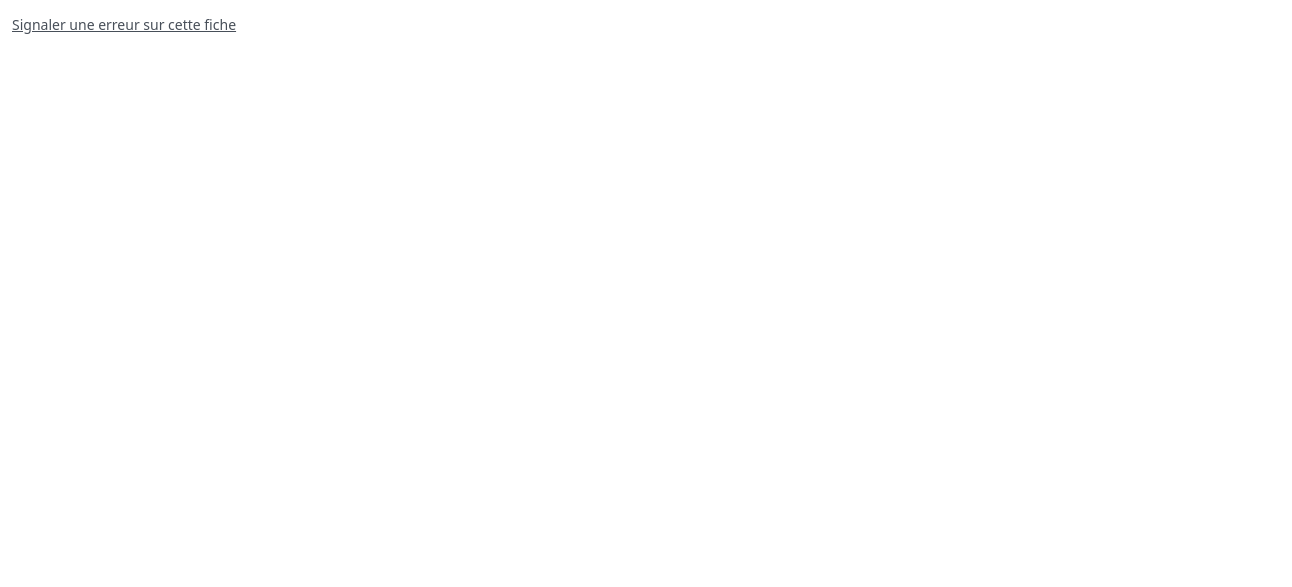
Test: ReportForm › sends the reason, the message and the optional contact
Step 1. Click the button "Signaler une erreur sur cette fiche" → (124,25), box 12,15 -> 236,35
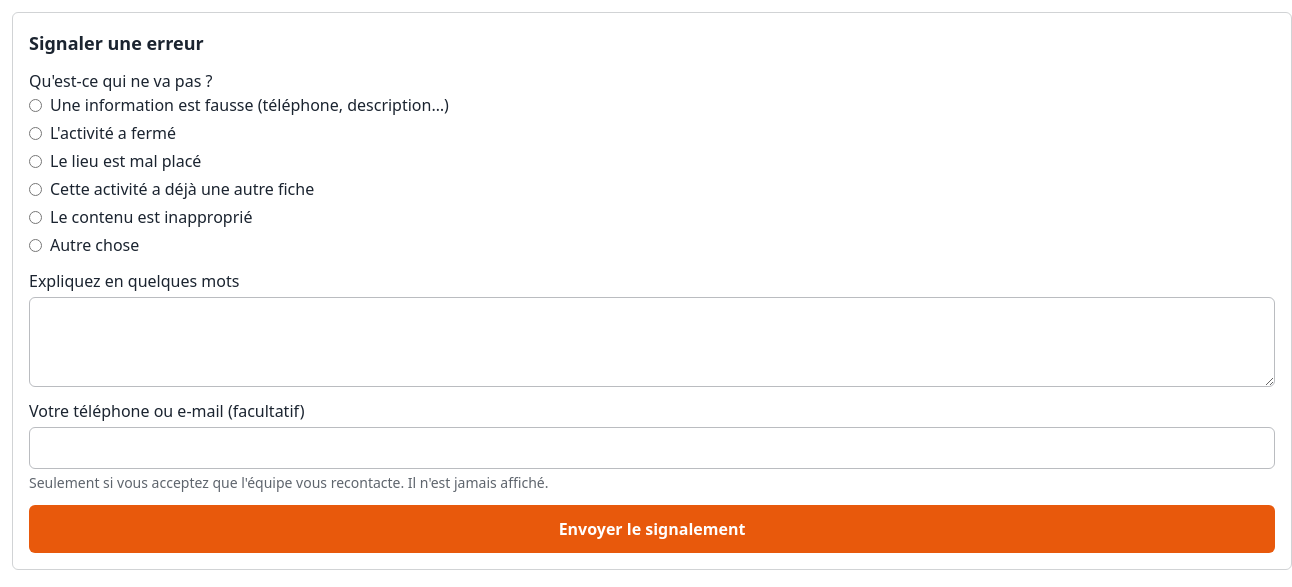
Step 2. Click the radio button labelled "L'activité a fermé" → (36,133), box 29,126 -> 42,140
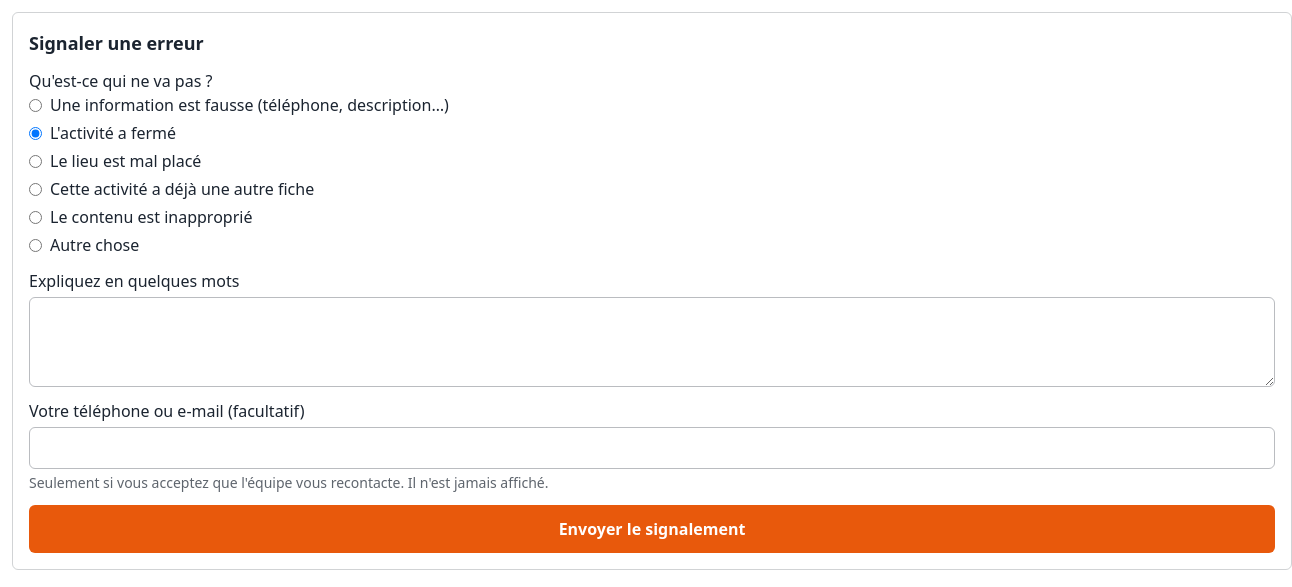
Step 3. Type "Fermé depuis un mois." into the text box labelled "Expliquez en quelques mots" → (652,342), box 29,297 -> 1275,387
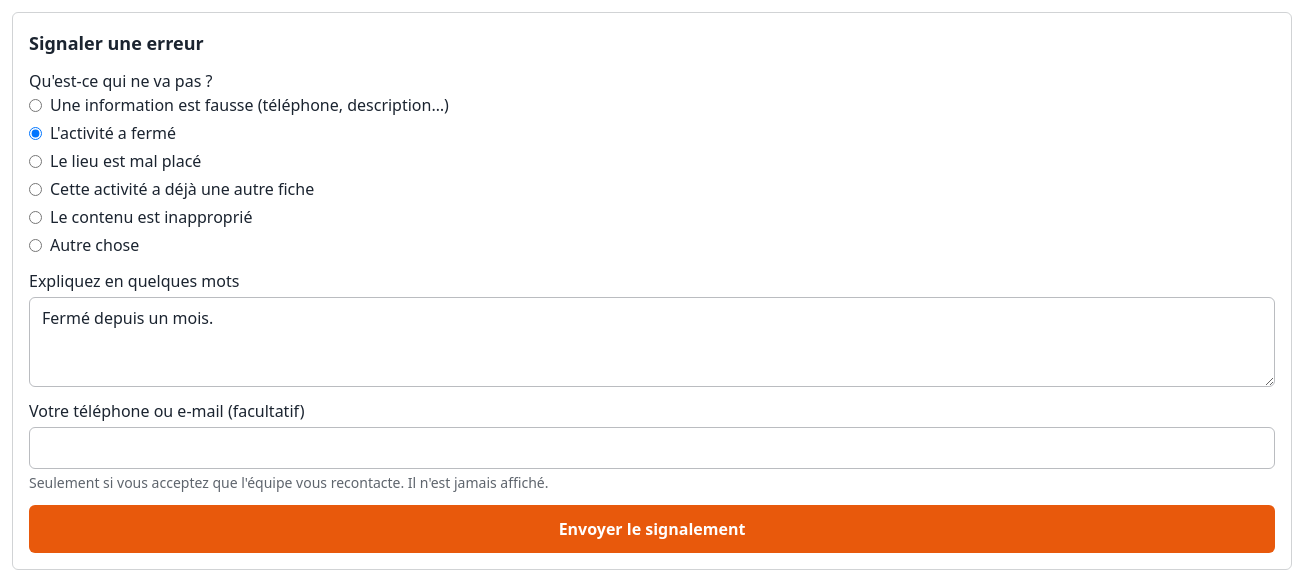
Step 4. Click the button "Envoyer le signalement" → (652,529), box 29,505 -> 1275,553
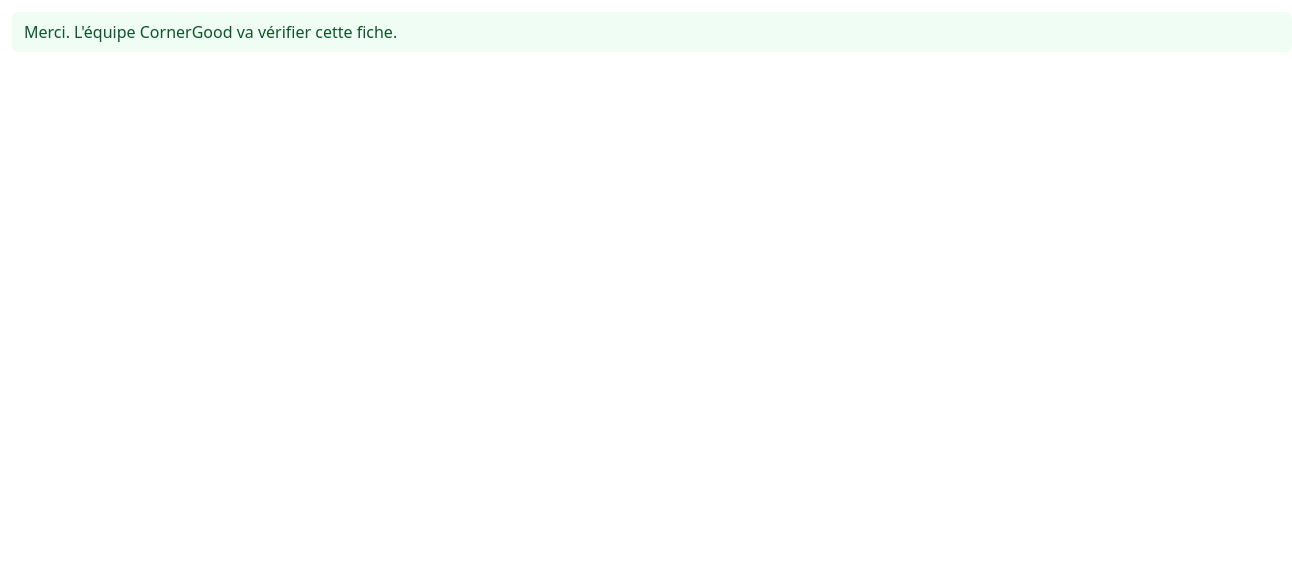
Result: the text "Merci. L'équipe CornerGood va vérifier cette fiche." is shown at 12,12 -> 1291,52
